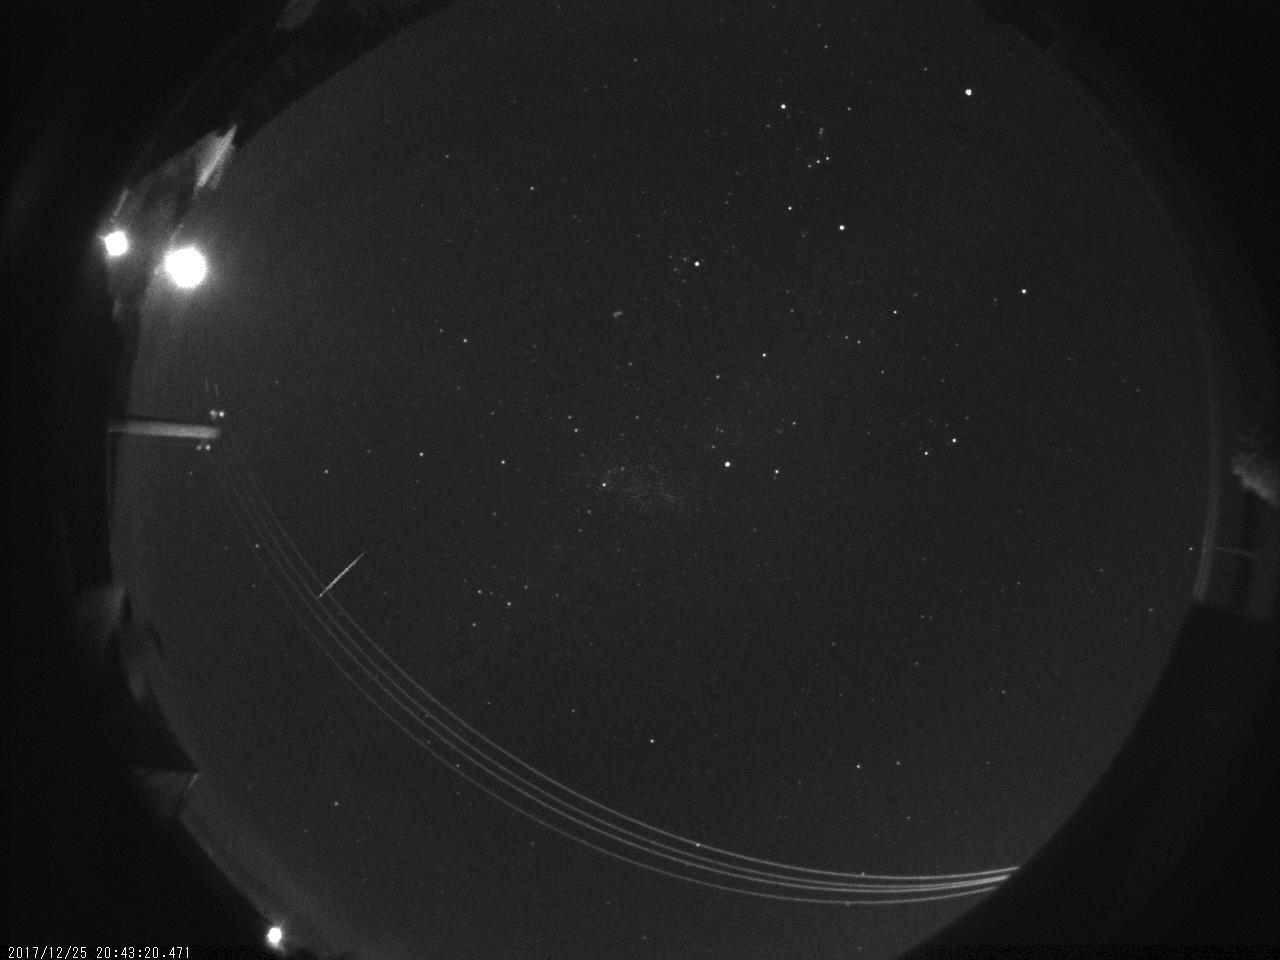Meteor: (311, 542, 377, 608)
